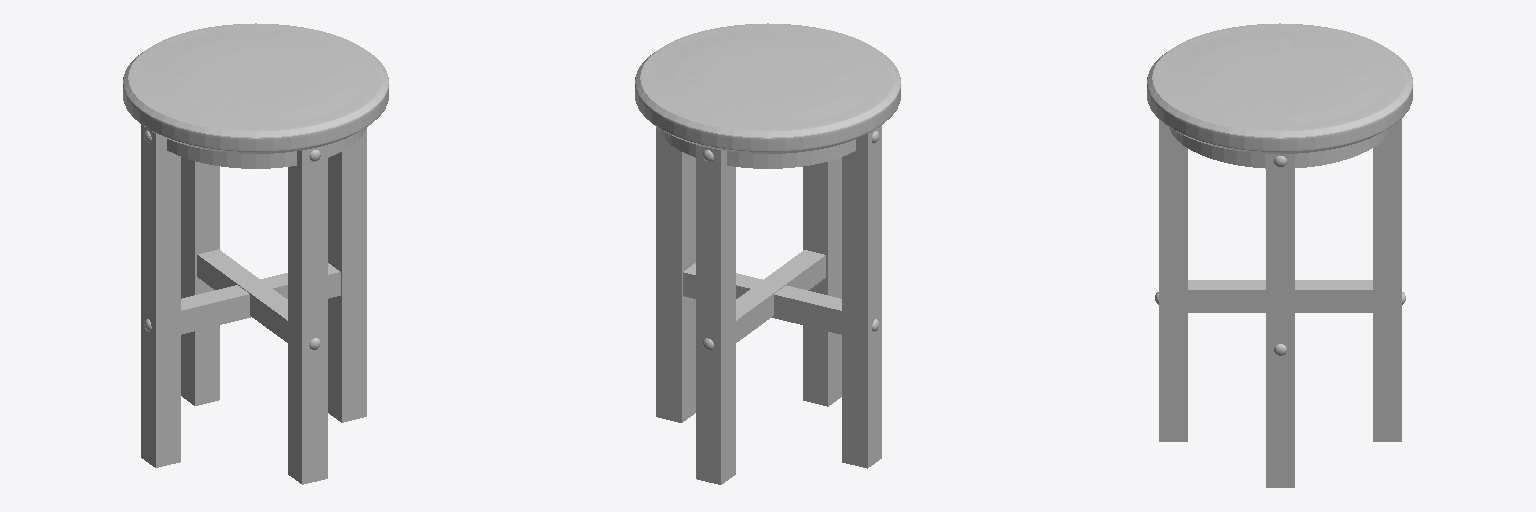
Rendered from wooden stool.obj.
3 views of the same model, side by side, from view 1: azimuth 30°, elevation 25°; view 2: azimuth 150°, elevation 25°; view 3: azimuth 270°, elevation 25° (orthographic).
Visible parts, largest first — view 1: Leg_Cube.008, Top_of_stool_Cylinder.001, truss_b_Cube.009, Stoll_top_support_Cylinder.005; view 2: Leg_Cube.008, Top_of_stool_Cylinder.001, truss_b_Cube.009, Stoll_top_support_Cylinder.005; view 3: Top_of_stool_Cylinder.001, Leg_Cube.008, truss_b_Cube.009, Stoll_top_support_Cylinder.005.
Part boxes in pixels (left/top/right/bottom): Leg_Cube.008: left=141, top=125, right=366, bottom=484; Top_of_stool_Cylinder.001: left=123, top=23, right=388, bottom=153; truss_b_Cube.009: left=181, top=249, right=340, bottom=342; Stoll_top_support_Cylinder.005: left=167, top=127, right=366, bottom=168; Leg_Cube.008: left=656, top=125, right=881, bottom=484; Top_of_stool_Cylinder.001: left=635, top=23, right=900, bottom=153; truss_b_Cube.009: left=683, top=250, right=841, bottom=342; Stoll_top_support_Cylinder.005: left=657, top=127, right=855, bottom=168; Top_of_stool_Cylinder.001: left=1147, top=23, right=1412, bottom=153; Leg_Cube.008: left=1159, top=119, right=1401, bottom=487; truss_b_Cube.009: left=1188, top=280, right=1372, bottom=312; Stoll_top_support_Cylinder.005: left=1169, top=127, right=1390, bottom=168.
Bounding box in the file's own units: 2.57 × 3.84 × 2.57.